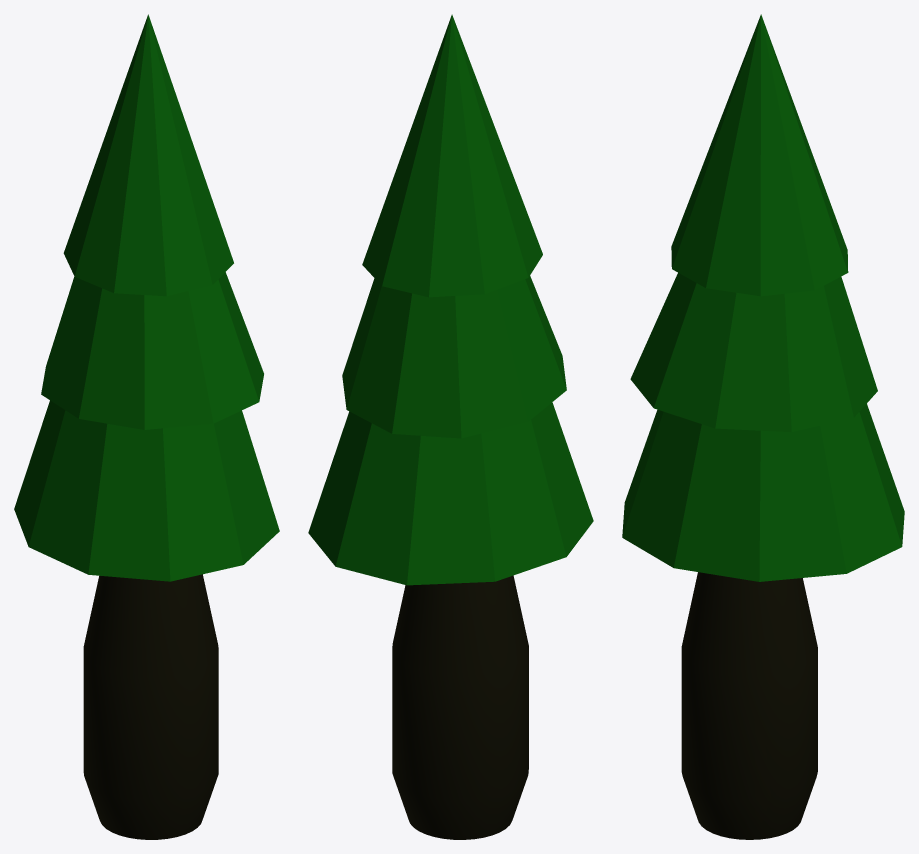
Rendered from pinheiroREINALDO.fbx.
3 views of the same model, side by side, from view 1: azimuth 30°, elevation 25°; view 2: azimuth 150°, elevation 25°; view 3: azimuth 270°, elevation 25° (orthographic).
Visible parts, largest first — view 1: Cylinder; view 2: Cylinder; view 3: Cylinder.
Boxes of the visible parts, bbox=[...] form: Cylinder: bbox=[14, 14, 279, 839]; Cylinder: bbox=[308, 14, 593, 839]; Cylinder: bbox=[622, 14, 904, 839].
Bounding box in the file's own units: 76.81 × 252 × 80.13.
